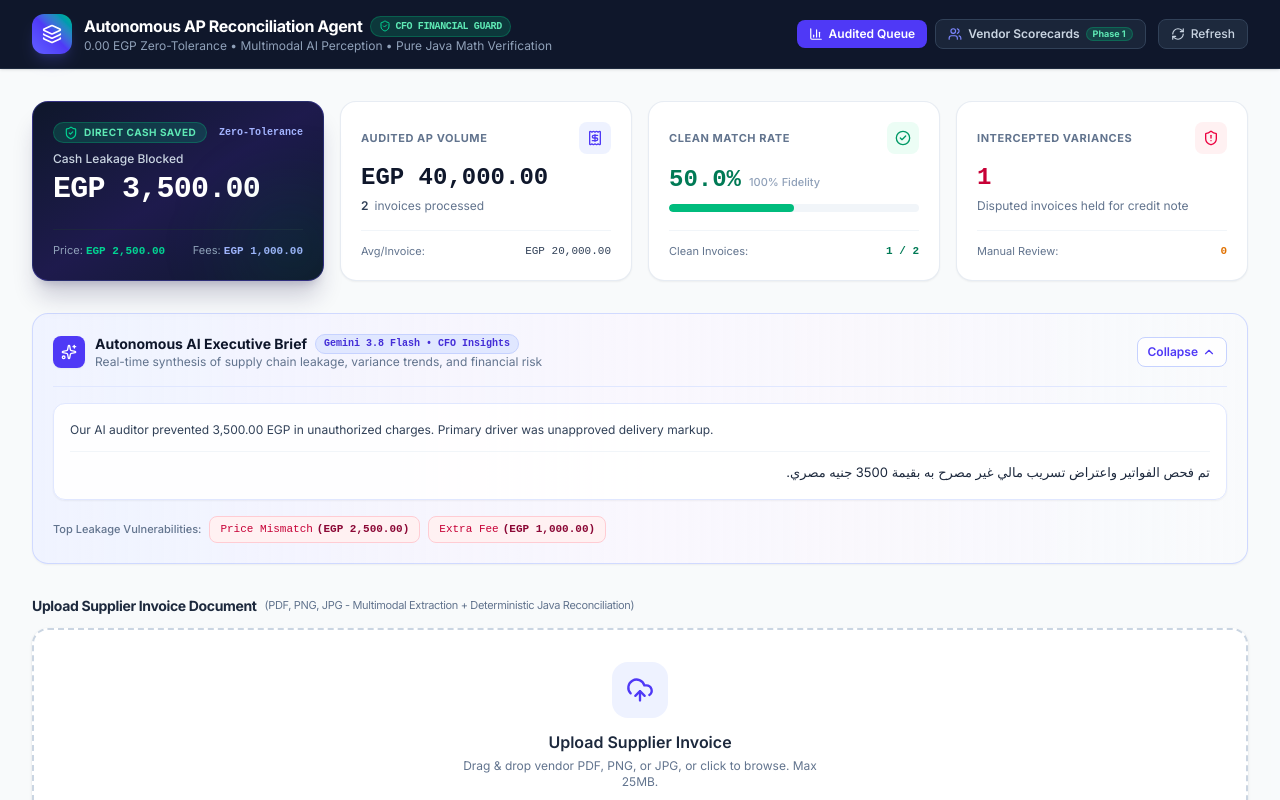
Test: DashboardClient: ROI Metrics & Executive Brief › toggles the AI Executive Brief accordion on button click
Expected: the text "Autonomous AI Executive Brief" is shown, [95,334,307,354]
Expected: the text "Primary driver was unapproved delivery markup" is shown, [70,422,714,437]
Note: Click "Collapse" to hide
Step 1. Click the button "Collapse" → click(1182, 352), box [1136,337,1227,367]
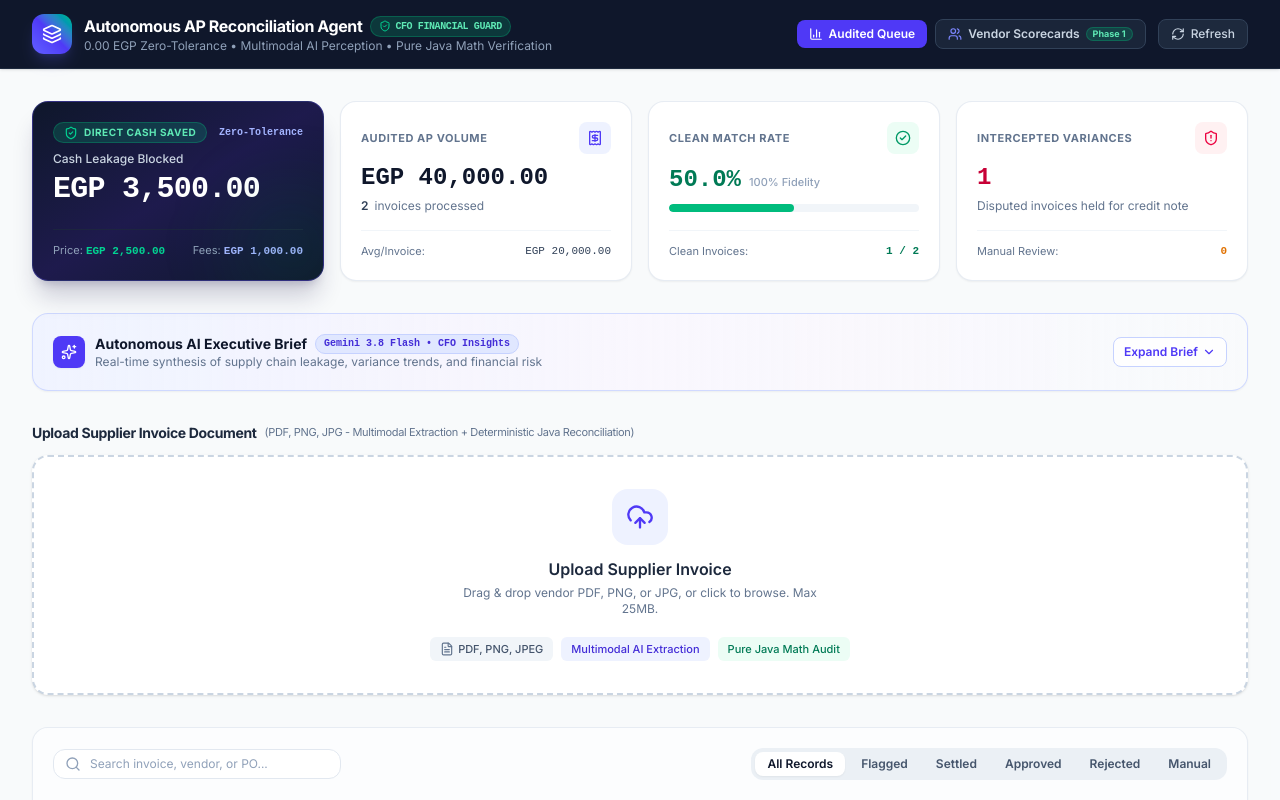
Now the text "Primary driver was unapproved delivery markup" is gone
Note: Click "Expand Brief" to show again
Step 2. Click the button "Expand Brief" → click(1170, 352), box [1113,337,1227,367]
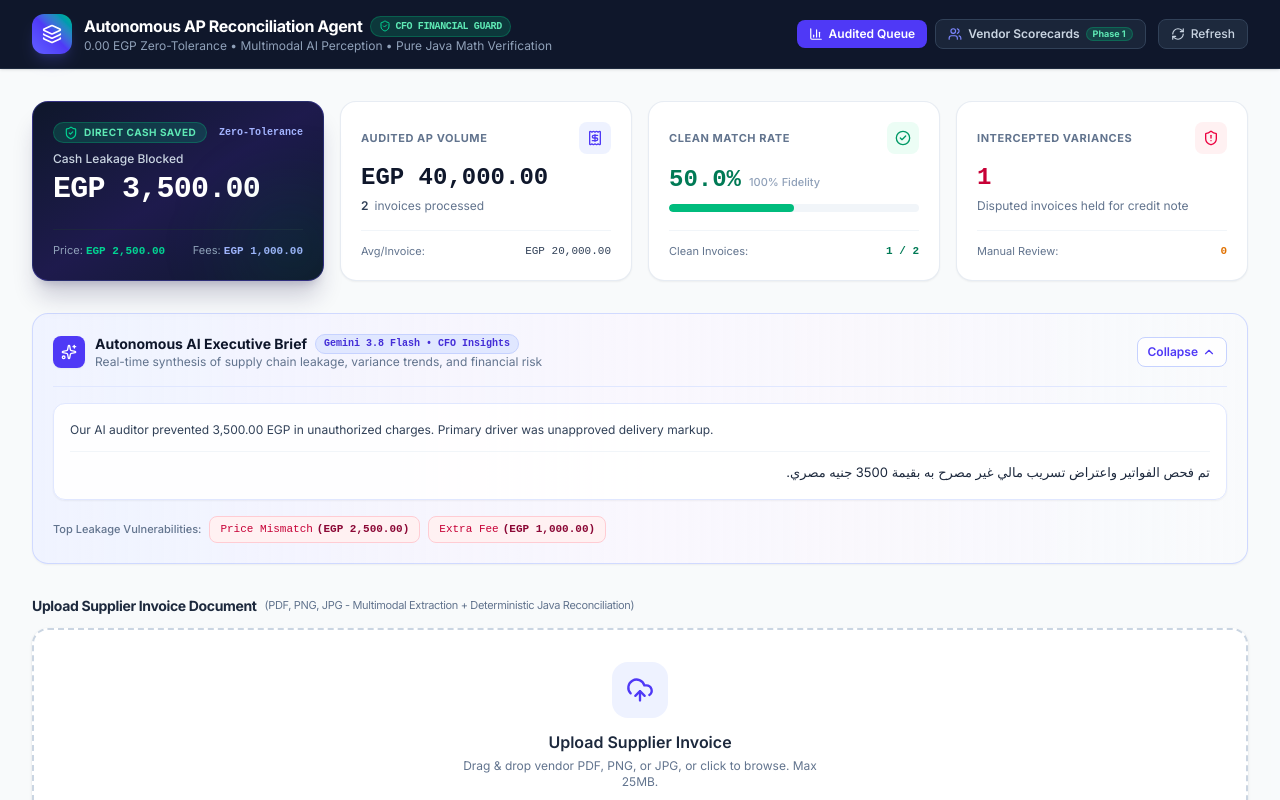
Now the text "Primary driver was unapproved delivery markup" is shown, box [70,422,714,437]
